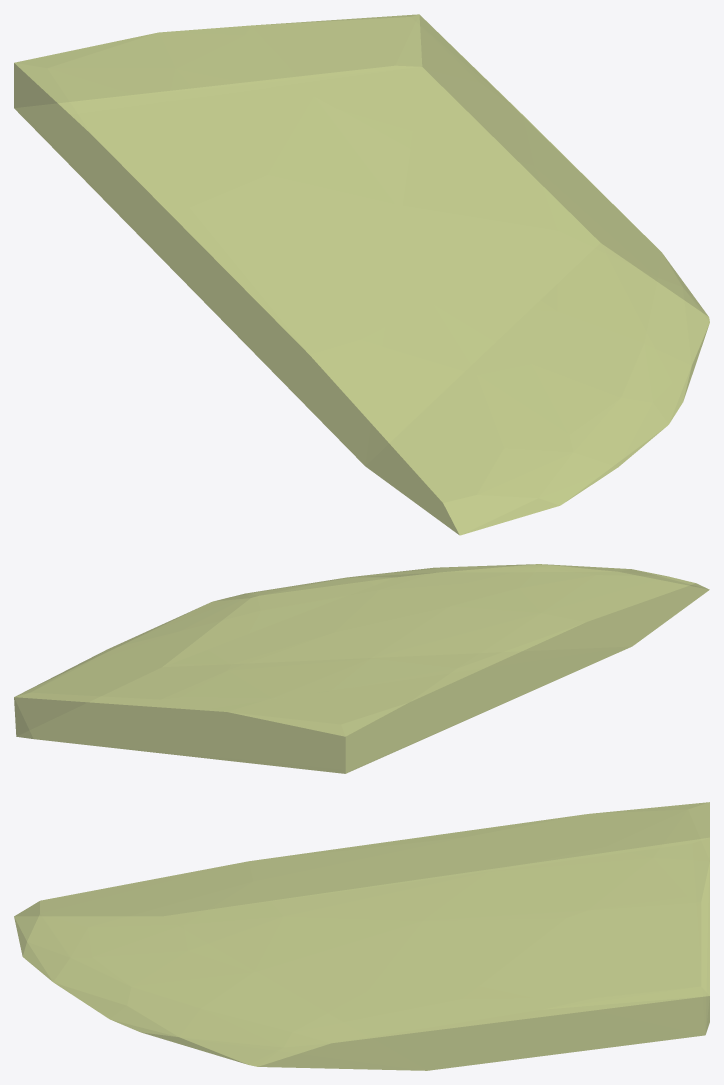
3 renders of one model, top to bottom at view 1: azimuth 30°, elevation 25°; view 2: azimuth 150°, elevation 25°; view 3: azimuth 270°, elevation 25°, orthographic. The views are drawn at different scales.
Visible parts, largest first — view 1: Shape_IndexedFaceSet.002_Shape_IndexedFaceSet.7608; view 2: Shape_IndexedFaceSet.002_Shape_IndexedFaceSet.7608; view 3: Shape_IndexedFaceSet.002_Shape_IndexedFaceSet.7608.
Boxes of the visible parts, x1=… form: Shape_IndexedFaceSet.002_Shape_IndexedFaceSet.7608: x1=14, y1=14, x2=709, y2=535; Shape_IndexedFaceSet.002_Shape_IndexedFaceSet.7608: x1=14, y1=564, x2=709, y2=773; Shape_IndexedFaceSet.002_Shape_IndexedFaceSet.7608: x1=14, y1=802, x2=709, y2=1070.
Size of the model in its own units: 0.1717 by 0.0593 by 0.3271.
